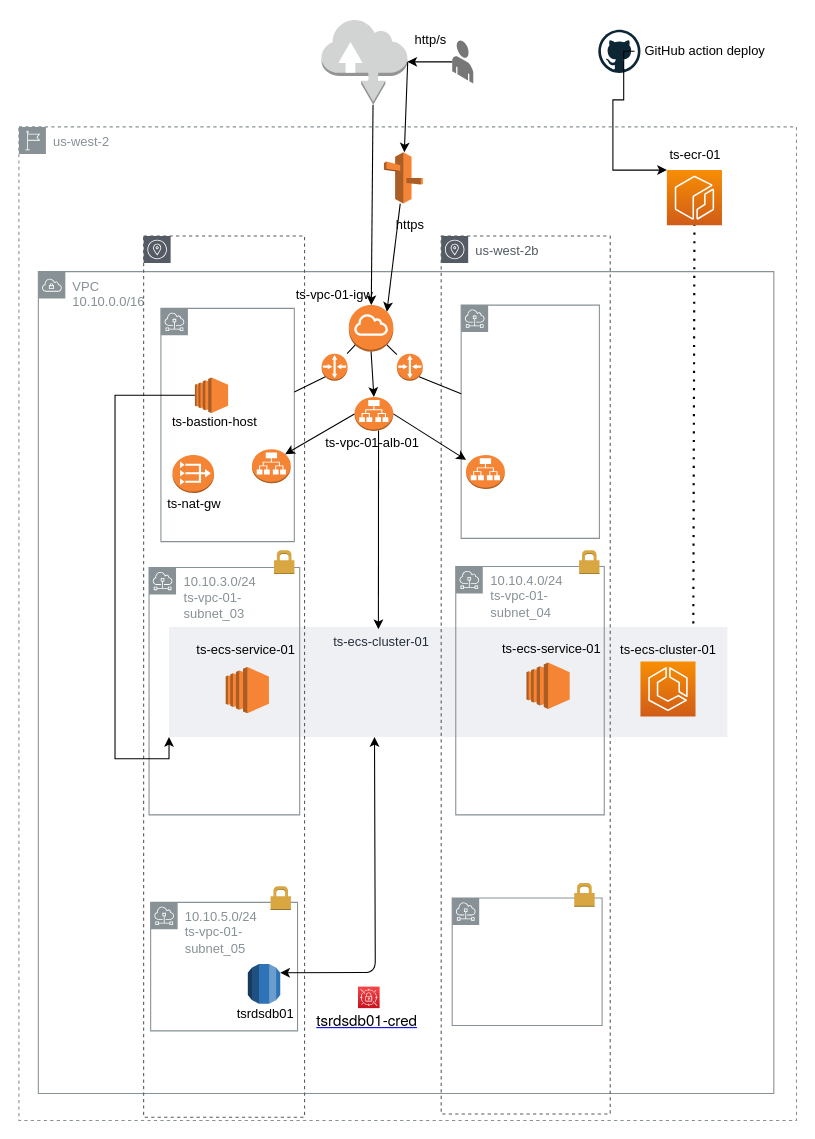
Image size: 815x1139. Some labels were removed from this diagram. The shapes that lost their labels are listed below. From the top down, each one's box as (x1, y1, x2, y2) in pixels, then its label:
(160, 307, 294, 542): 10.10.1.0/24 ts-vpc-01-subnet_01
(460, 304, 599, 538): 10.10.2.0/24 ts-vpc-01-subnet_02
(143, 235, 305, 1117): us-west-2a
(451, 897, 602, 1025): 10.10.6.0/24 ts-vpc-01-subnet_06
